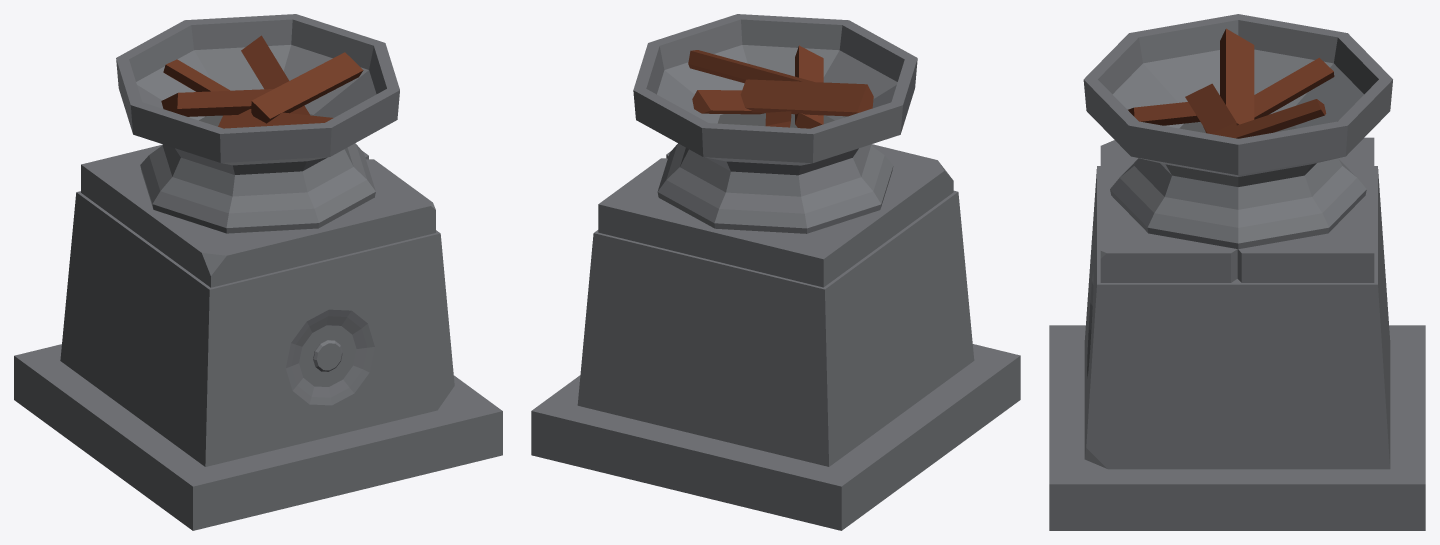
File: StoneBrazier_2.fbx
3 views of the same model, side by side, from view 1: azimuth 30°, elevation 25°; view 2: azimuth 150°, elevation 25°; view 3: azimuth 270°, elevation 25° (orthographic). The views are drawn at different scales.
Parts seen in each view (by area): view 1: StoneBrazier_2; view 2: StoneBrazier_2; view 3: StoneBrazier_2.
Boxes of the visible parts, x1,y1,x2,y2 form: StoneBrazier_2: (14,14,502,530); StoneBrazier_2: (531,14,1020,530); StoneBrazier_2: (1049,14,1425,530).
Size of the model in its own units: 68.51 by 76.04 by 68.51.
